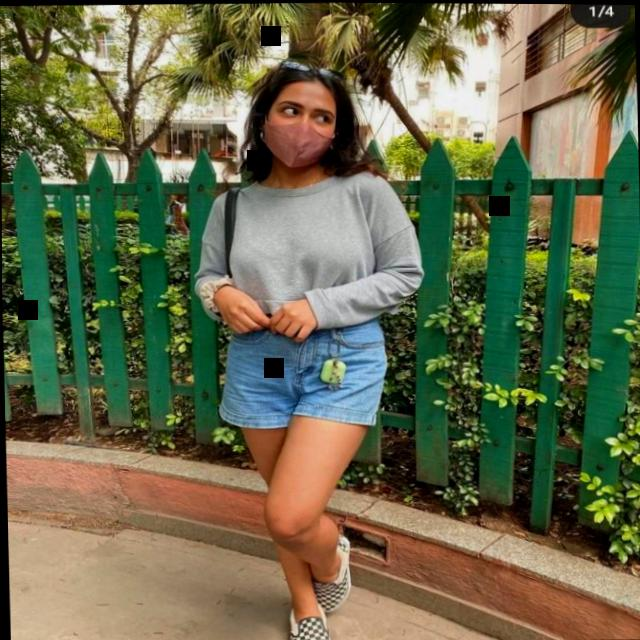Mask: (261, 91, 336, 168)
